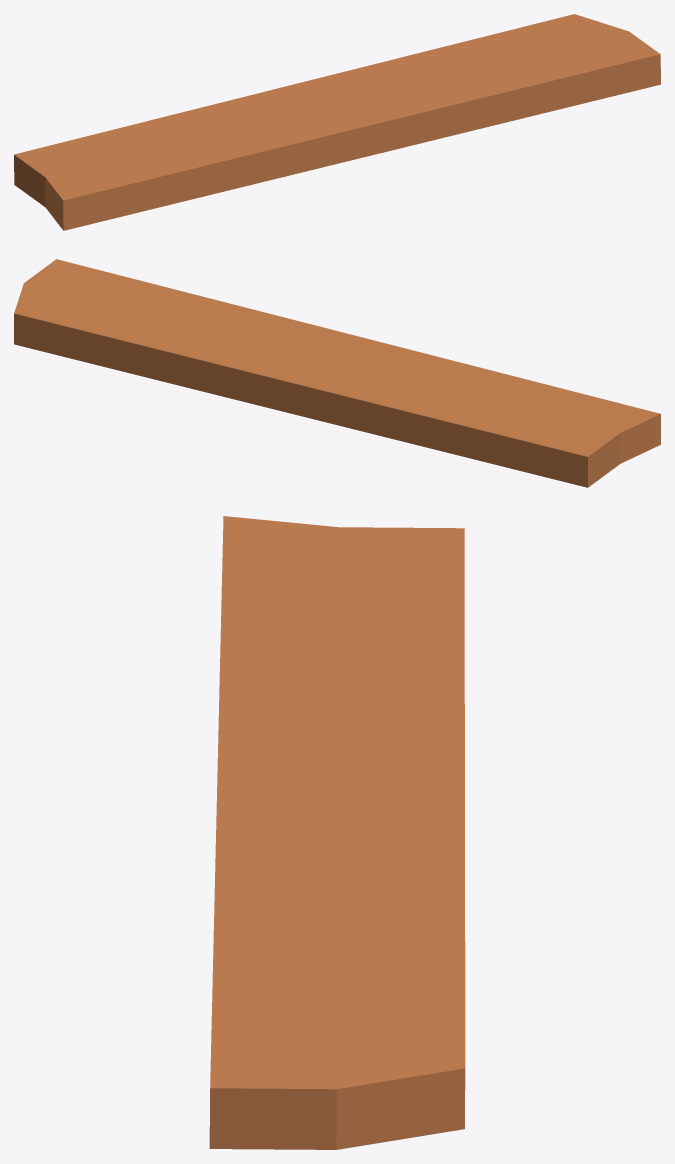
File: wood_plank_02_broken.fbx
3 views of the same model, one above another, from view 1: azimuth 30°, elevation 25°; view 2: azimuth 150°, elevation 25°; view 3: azimuth 270°, elevation 25° (orthographic). The views are drawn at different scales.
Visible parts, largest first — view 1: wood_plank_02_Part_4, wood_plank_02_Part_1, wood_plank_02_Part_5, wood_plank_02_Part_3, wood_plank_02_Part_2, wood_plank_02_Part_6; view 2: wood_plank_02_Part_4, wood_plank_02_Part_1, wood_plank_02_Part_6, wood_plank_02_Part_3, wood_plank_02_Part_2, wood_plank_02_Part_5; view 3: wood_plank_02_Part_4, wood_plank_02_Part_1, wood_plank_02_Part_2, wood_plank_02_Part_6, wood_plank_02_Part_3, wood_plank_02_Part_5.
Part boxes in pixels (bbox=[...]): wood_plank_02_Part_4: bbox=[351, 14, 660, 160]; wood_plank_02_Part_1: bbox=[14, 124, 221, 230]; wood_plank_02_Part_5: bbox=[218, 102, 326, 188]; wood_plank_02_Part_3: bbox=[136, 103, 237, 193]; wood_plank_02_Part_2: bbox=[221, 84, 342, 166]; wood_plank_02_Part_6: bbox=[294, 62, 380, 163]; wood_plank_02_Part_4: bbox=[14, 259, 366, 394]; wood_plank_02_Part_1: bbox=[463, 373, 660, 487]; wood_plank_02_Part_6: bbox=[212, 338, 377, 417]; wood_plank_02_Part_3: bbox=[379, 369, 499, 458]; wood_plank_02_Part_2: bbox=[301, 341, 403, 432]; wood_plank_02_Part_5: bbox=[367, 348, 484, 435]; wood_plank_02_Part_4: bbox=[209, 794, 465, 1149]; wood_plank_02_Part_1: bbox=[220, 516, 464, 667]; wood_plank_02_Part_2: bbox=[217, 727, 464, 798]; wood_plank_02_Part_6: bbox=[217, 783, 464, 881]; wood_plank_02_Part_3: bbox=[219, 645, 464, 724]; wood_plank_02_Part_5: bbox=[217, 683, 464, 759].
Bounding box in the file's own units: 198 × 11.08 × 36.85.
Materials: 1 (1 with a texture image).
